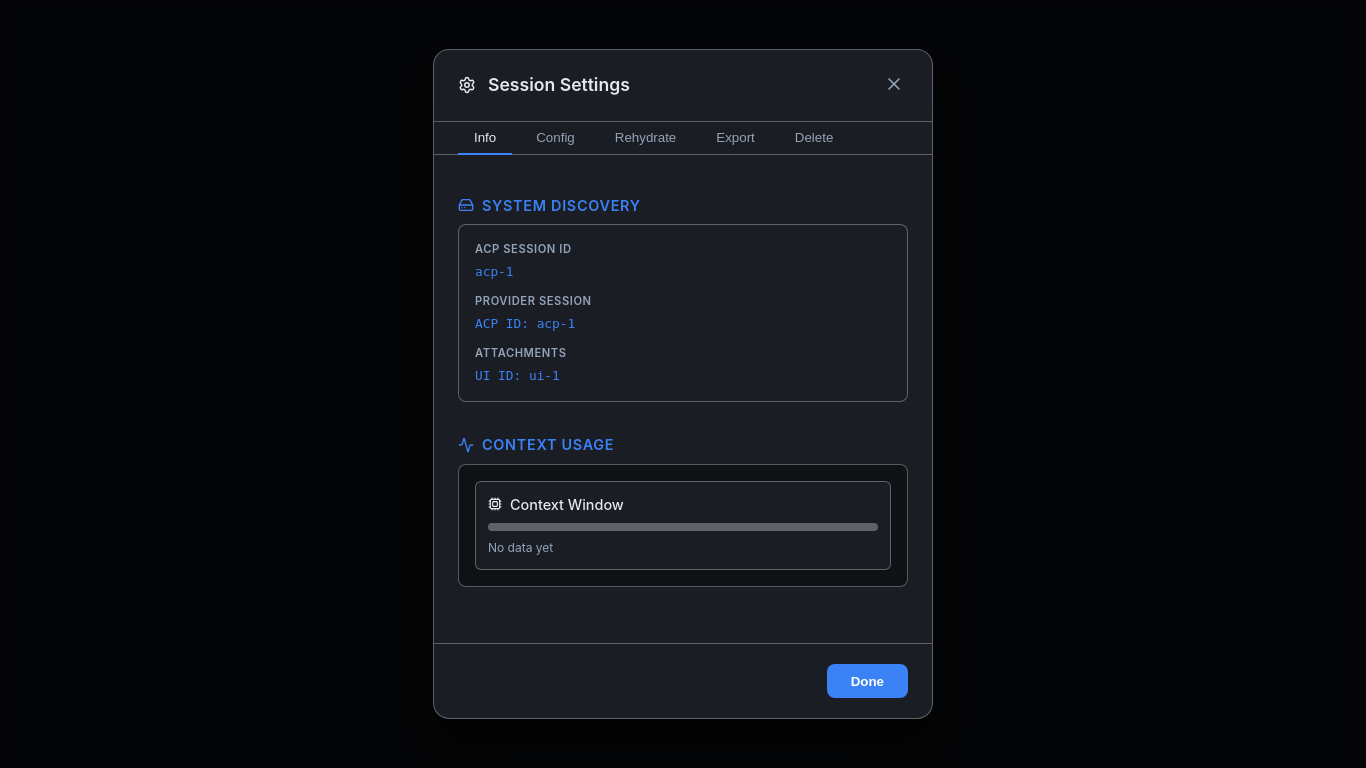
Test case: SessionSettingsModal › uses provider-specific session and model labels
Expected: the text "Provider Session" is shown, [475, 294, 592, 308]
Click the button "Config".
click(555, 138)  # box [520, 122, 591, 154]
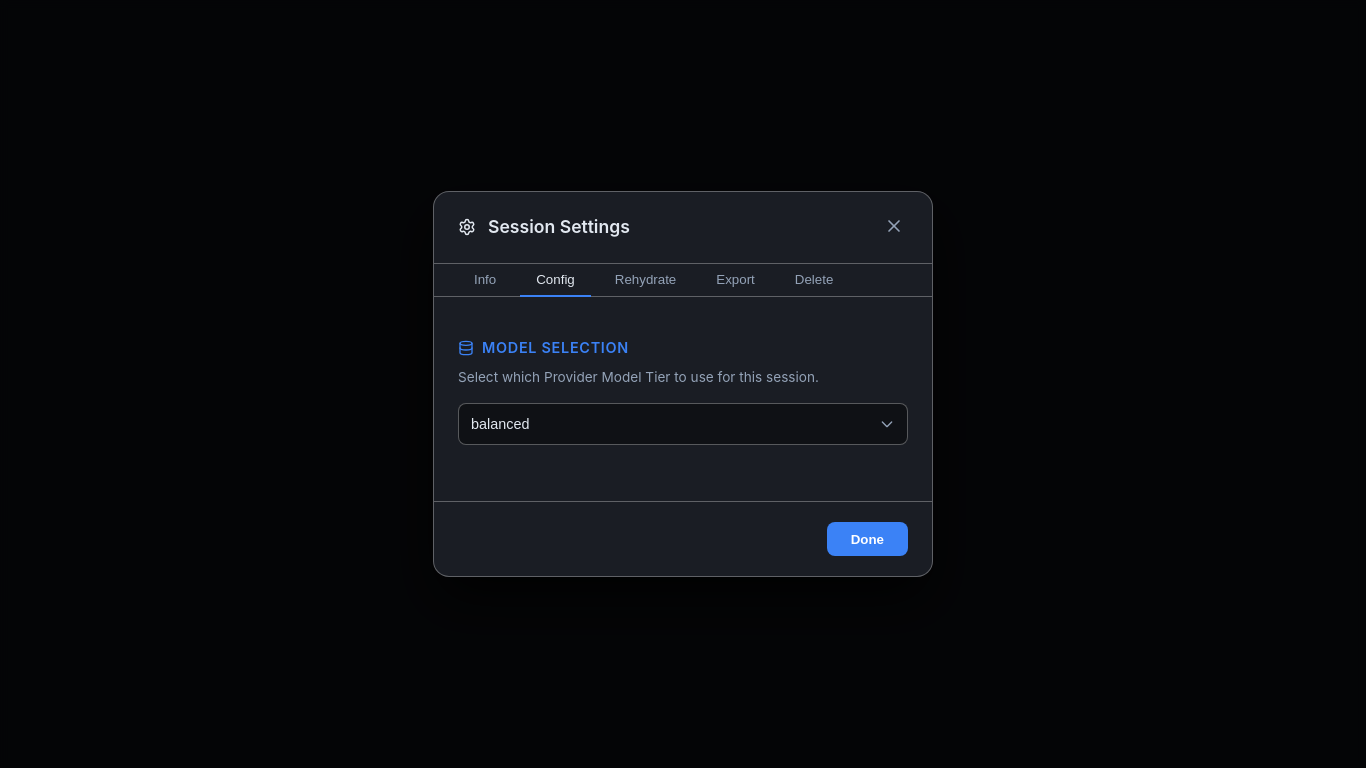
Expected: the text "Select which Provider Model Tier to use for this session." is shown, [458, 368, 819, 384]
